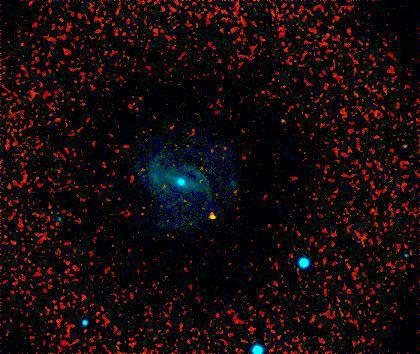star: (199, 204, 229, 234)
